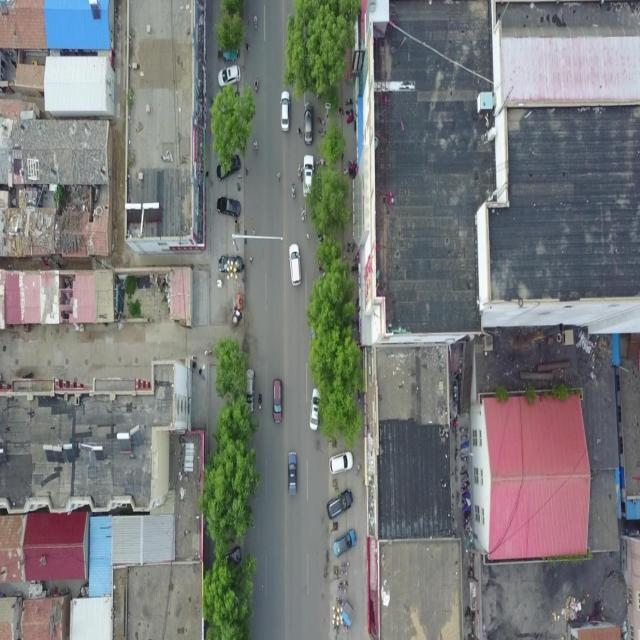p3rson: (297, 126, 302, 138), (191, 354, 197, 362), (245, 168, 250, 176), (277, 172, 281, 182), (192, 363, 198, 369), (245, 41, 249, 50), (199, 367, 202, 378), (204, 349, 208, 357), (252, 228, 255, 236), (209, 350, 213, 356), (250, 256, 252, 264)
